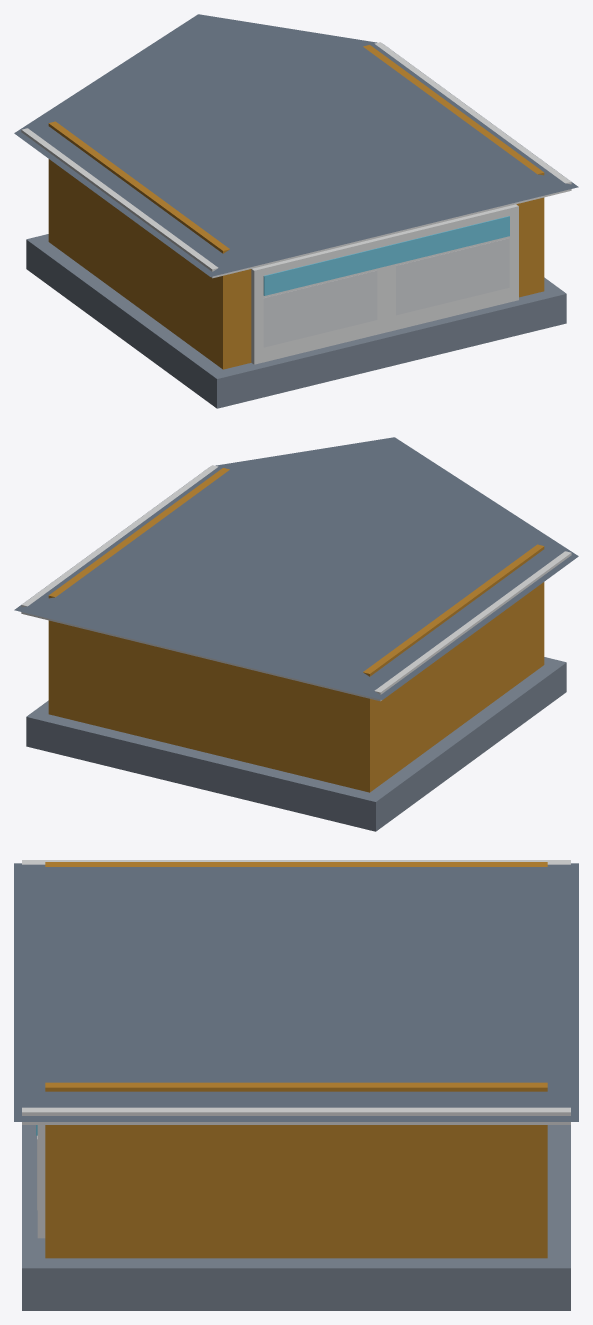
The model's file is ranch-house-garage.glb.
The picture shows the model from 3 angles, top to bottom: view 1: azimuth 30°, elevation 25°; view 2: azimuth 150°, elevation 25°; view 3: azimuth 270°, elevation 25°; orthographic projection. The views are drawn at different scales.
Visible parts, largest first — view 1: Root; view 2: Root; view 3: Root.
Boxes of the visible parts, x1,y1,x2,y2 form: Root: [14, 14, 578, 408]; Root: [14, 437, 578, 831]; Root: [14, 860, 578, 1310].
Bounding box in the file's own units: 7.8 × 4.25 × 7.2.
